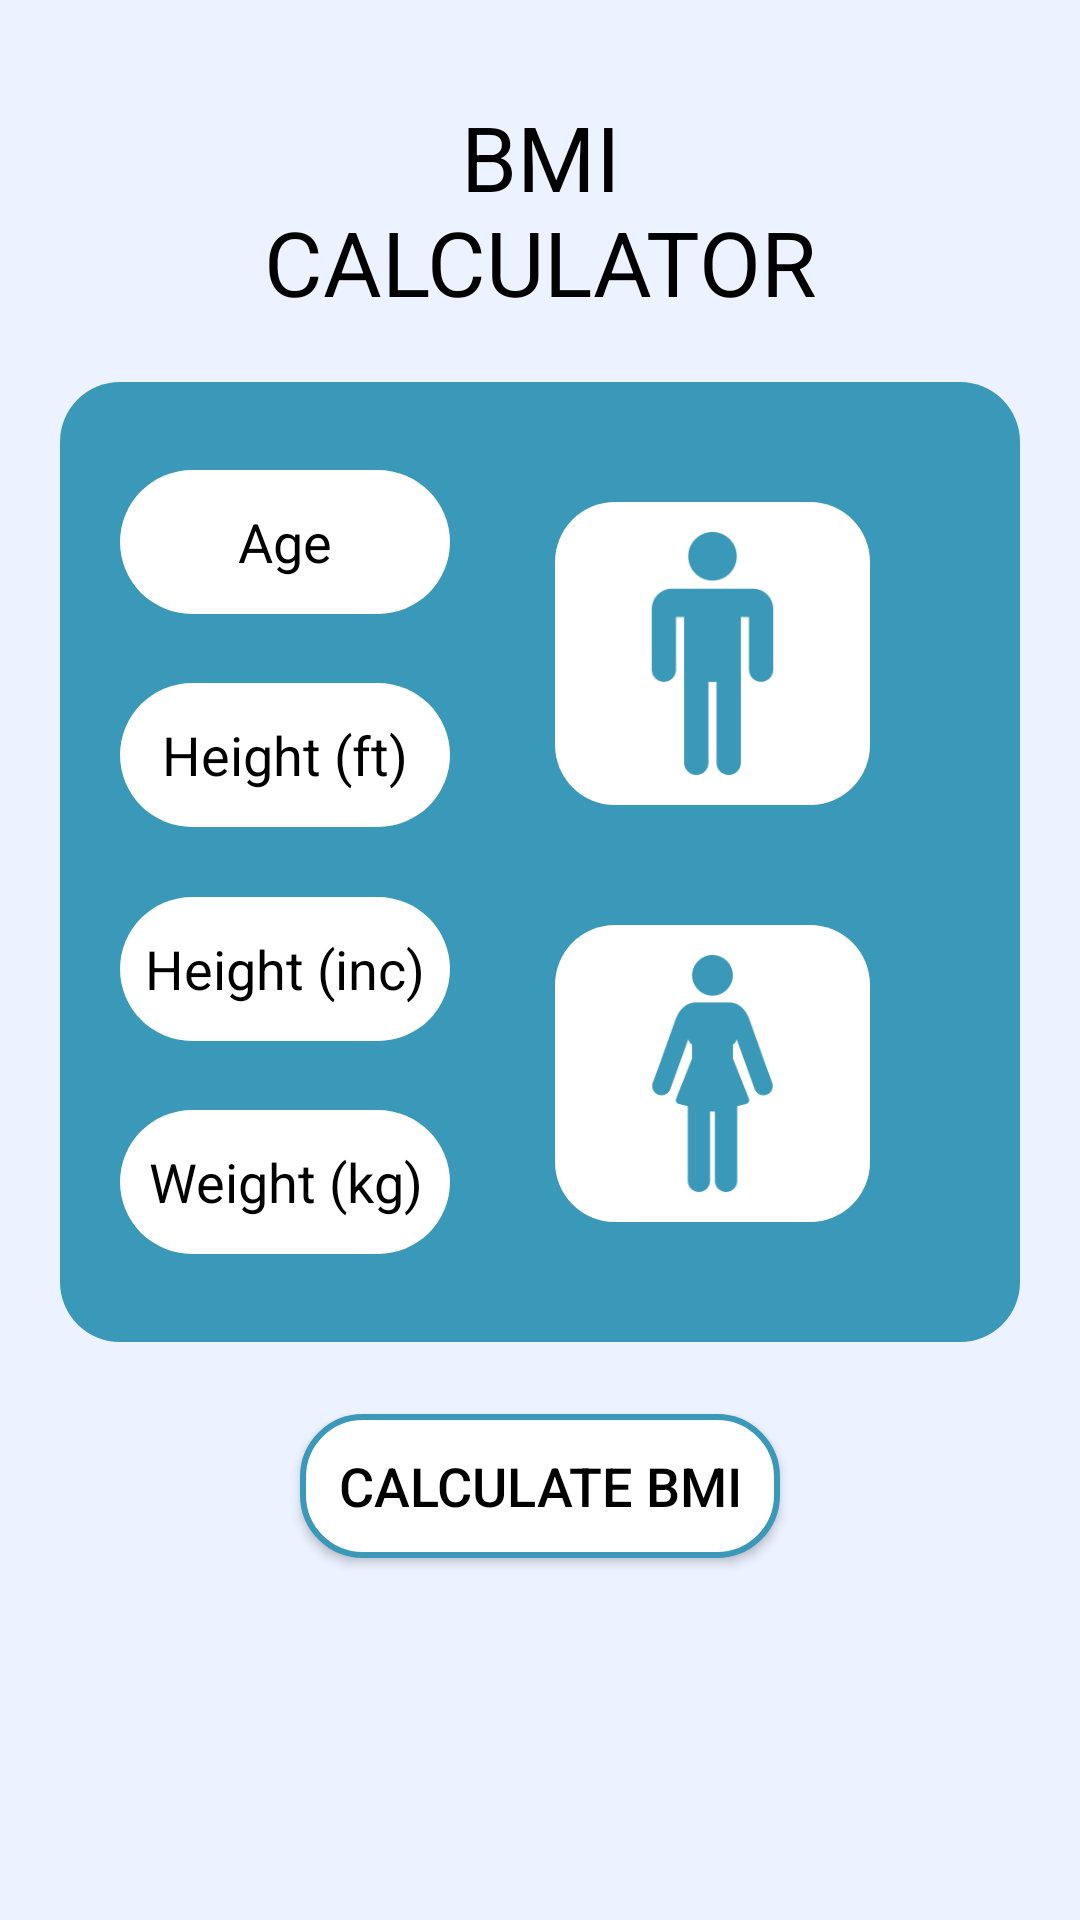

Named icons in this screenshot (1080 x 1920) and their bounding boxes, bbox=(x1, y1, x2, y2):
girl: bbox=(652, 955, 773, 1192)
male: bbox=(651, 532, 774, 775)
